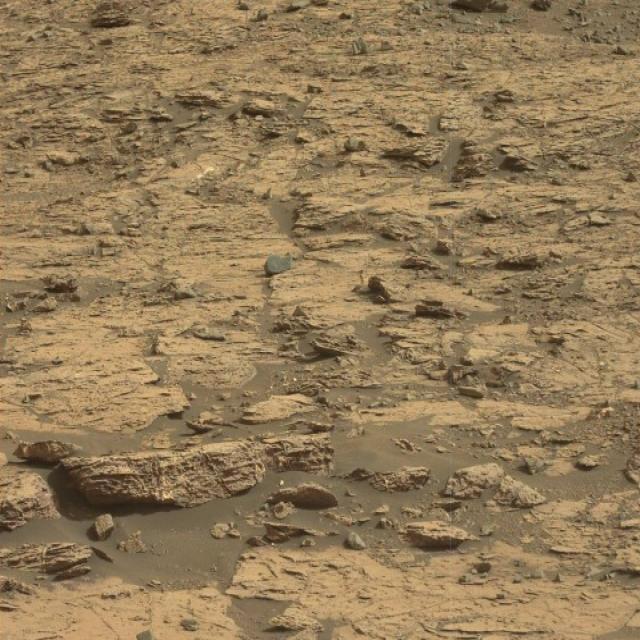rock: (54, 438, 354, 512), (9, 434, 78, 463), (406, 518, 470, 548)
